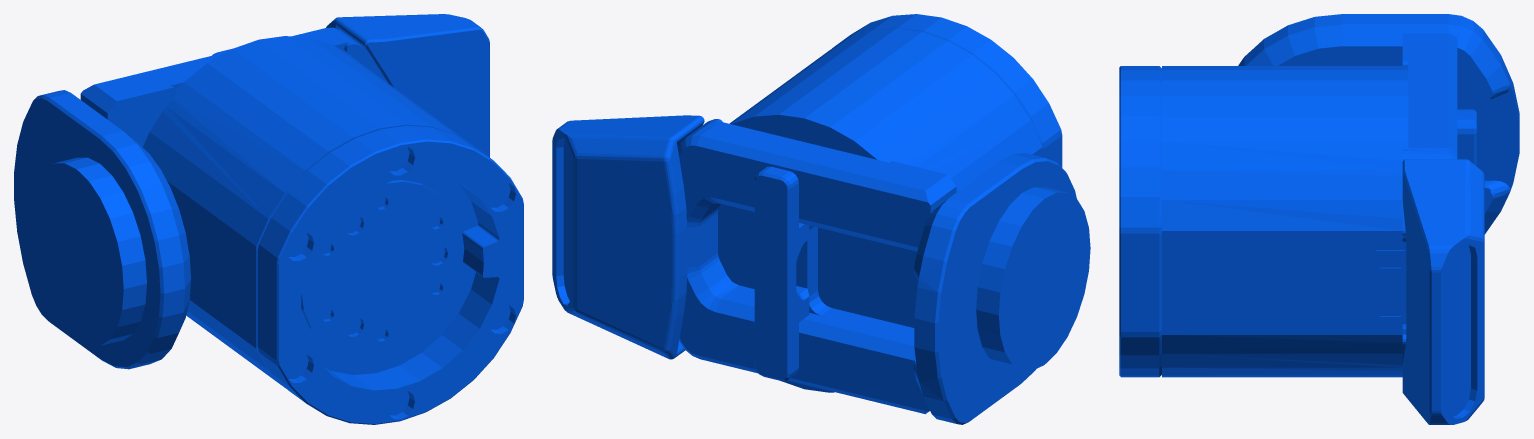
3 views of the same model, side by side, from view 1: azimuth 30°, elevation 25°; view 2: azimuth 150°, elevation 25°; view 3: azimuth 270°, elevation 25° (orthographic). The views are drawn at different scales.
Visible parts, largest first — view 1: link_5.STL; view 2: link_5.STL; view 3: link_5.STL.
Part boxes in pixels (x1=…): link_5.STL: x1=14, y1=14, x2=523, y2=424; link_5.STL: x1=552, y1=14, x2=1090, y2=424; link_5.STL: x1=1119, y1=14, x2=1519, y2=424.
Bounding box in the file's own units: 0.098 × 0.057 × 0.0732.
1 material, 1 textured.
